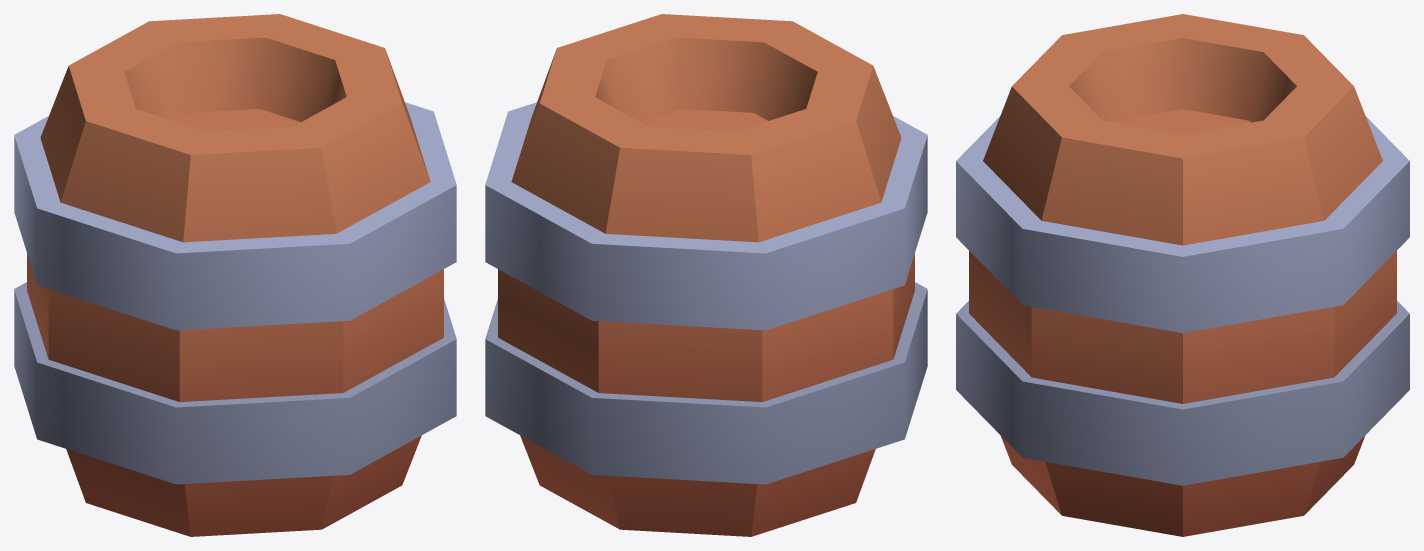
File: barrel.glb
The picture shows the model from 3 angles, left to right: view 1: azimuth 30°, elevation 25°; view 2: azimuth 150°, elevation 25°; view 3: azimuth 270°, elevation 25°; orthographic projection.
Visible parts, largest first — view 1: barrel; view 2: barrel; view 3: barrel.
Boxes of the visible parts, x1,y1,x2,y2 form: barrel: [14, 14, 456, 536]; barrel: [485, 14, 927, 536]; barrel: [956, 14, 1409, 536].
Size of the model in its own units: 0.5176 by 0.4762 by 0.5176.
1 material, 1 textured.
